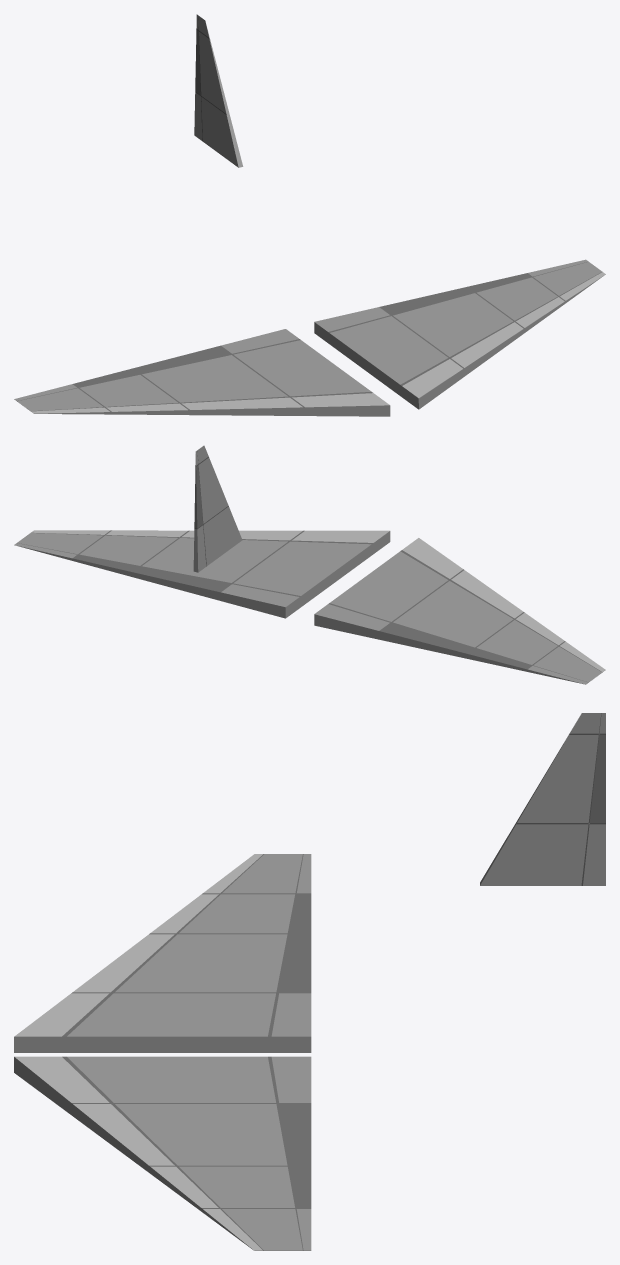
File: wings.fbx
3 renders of one model, top to bottom at view 1: azimuth 30°, elevation 25°; view 2: azimuth 150°, elevation 25°; view 3: azimuth 270°, elevation 25°, orthographic. The views are drawn at different scales.
Parts seen in each view (by area): view 1: Cube.004, Cube.001, Cube.002; view 2: Cube.004, Cube.001, Cube.002; view 3: Cube.004, Cube.001, Cube.002.
Boxes of the visible parts, x1,y1,x2,y2 form: Cube.004: (14,329,390,416); Cube.001: (314,259,605,409); Cube.002: (194,14,243,167); Cube.004: (314,538,605,684); Cube.001: (14,530,390,618); Cube.002: (193,445,242,572); Cube.004: (14,854,311,1052); Cube.001: (14,1056,311,1250); Cube.002: (480,713,605,885).
Bounding box in the file's own units: 631 × 260 × 398.
